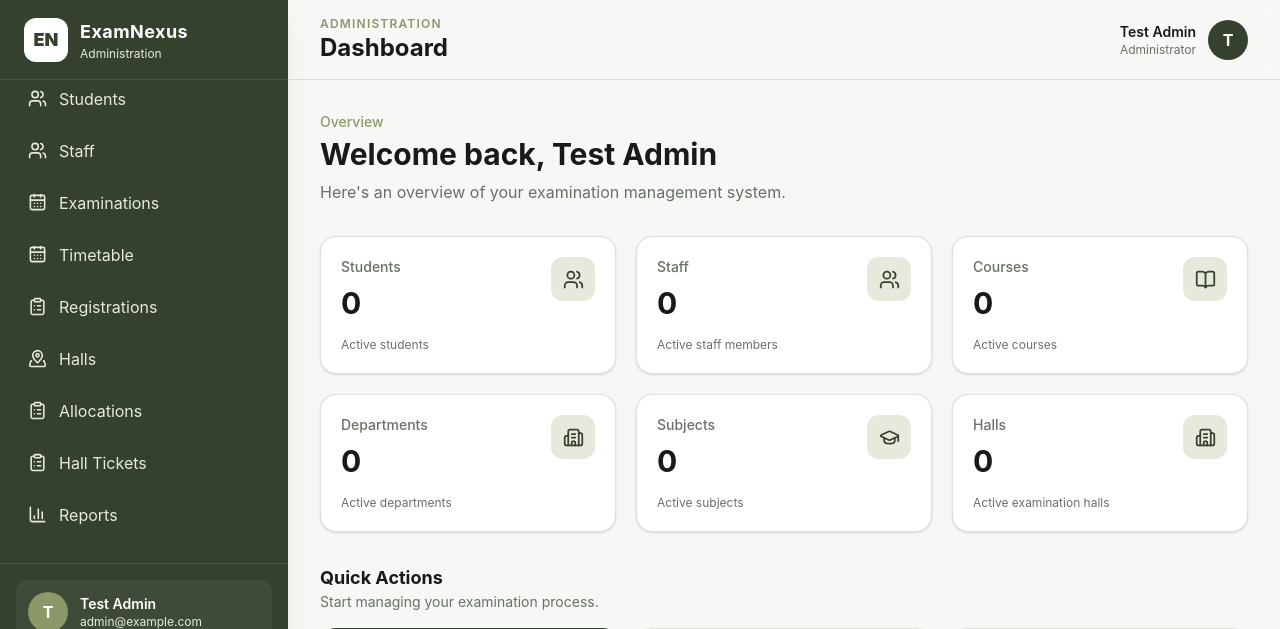
Phase 12 — Reports & Hall Tickets › HT-03: Hall Tickets backend error surfaces an error message
The width and height of the screenshot is (1280, 629).
(page scrolled)
Expected: the heading "Dashboard" is shown, [320, 32, 448, 64]
Click the button "Hall Tickets": point(144, 462) [16, 438, 272, 486]
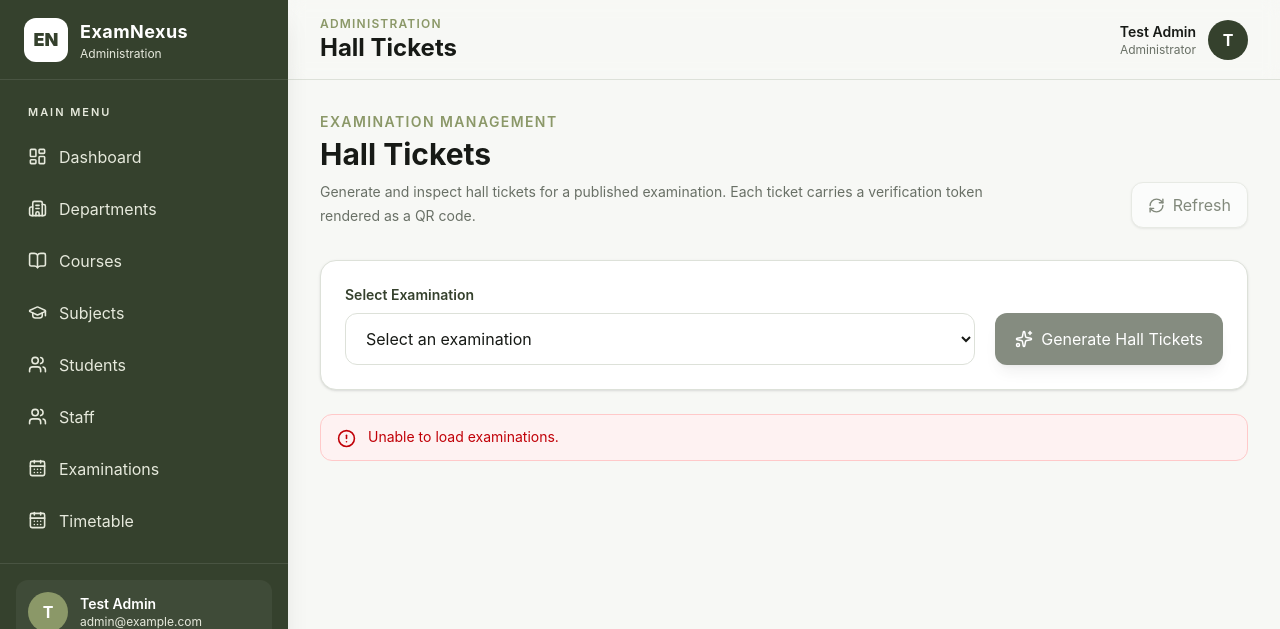
Expected: the text "Unable to load examinations." is shown, [368, 427, 559, 447]
